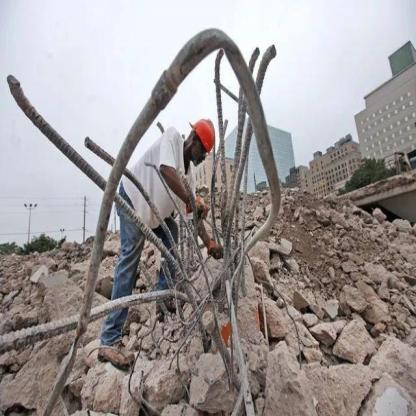rebar: (1, 26, 283, 413), (139, 49, 255, 389), (87, 309, 163, 413), (245, 252, 302, 370), (162, 315, 197, 400), (256, 44, 277, 95), (249, 47, 260, 75), (158, 118, 166, 135)
